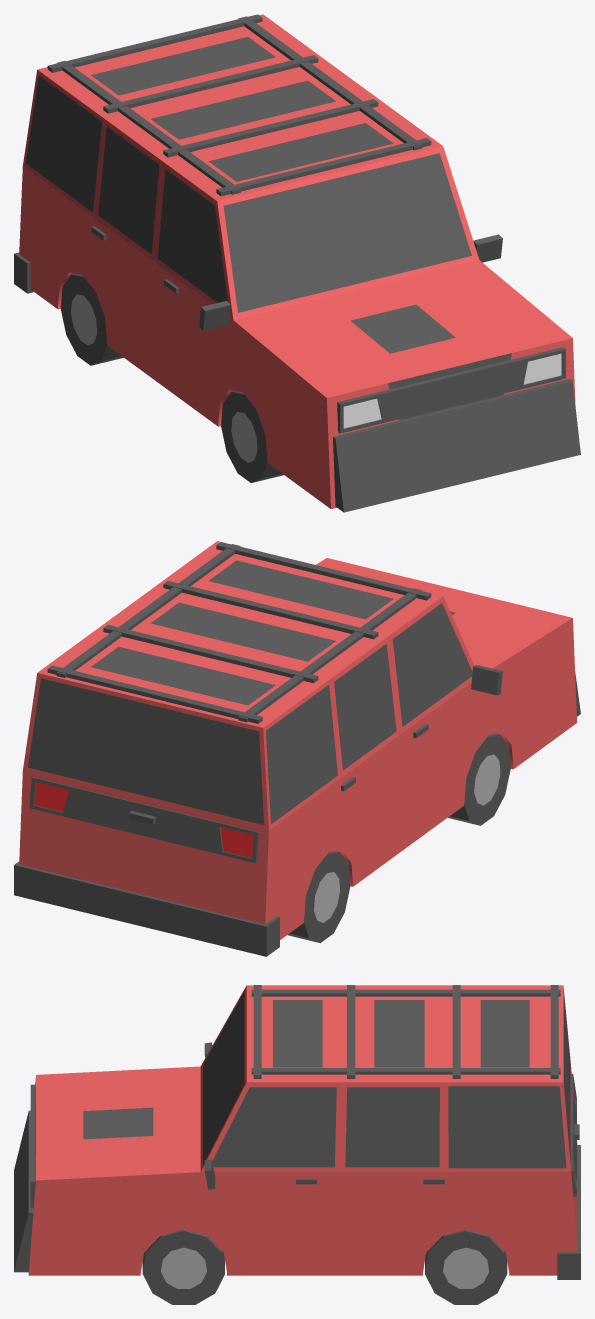
The model's file is SM_Car_02_04.FBX.
3 renders of one model, top to bottom at view 1: azimuth 30°, elevation 25°; view 2: azimuth 150°, elevation 25°; view 3: azimuth 270°, elevation 25°, orthographic. The views are drawn at different scales.
Parts seen in each view (by area): view 1: SM_Car_02_04, SM_Wheel_LFront002, SM_Wheel_RBack001; view 2: SM_Car_02_04, SM_Wheel_LFront002, SM_Wheel_RBack001; view 3: SM_Car_02_04, SM_Wheel_LBack001, SM_Wheel_LFront001.
Part boxes in pixels (x1,y1,x2,y2): SM_Car_02_04: [14, 14, 580, 512]; SM_Wheel_LFront002: [221, 391, 283, 482]; SM_Wheel_RBack001: [60, 273, 123, 365]; SM_Car_02_04: [14, 541, 580, 956]; SM_Wheel_LFront002: [448, 733, 510, 825]; SM_Wheel_RBack001: [287, 851, 350, 943]; SM_Car_02_04: [14, 985, 580, 1279]; SM_Wheel_LBack001: [425, 1229, 507, 1304]; SM_Wheel_LFront001: [142, 1229, 224, 1304].
Bounding box in the file's own units: 1.82 × 1.48 × 3.41.
Materials: 1 (1 with a texture image).
